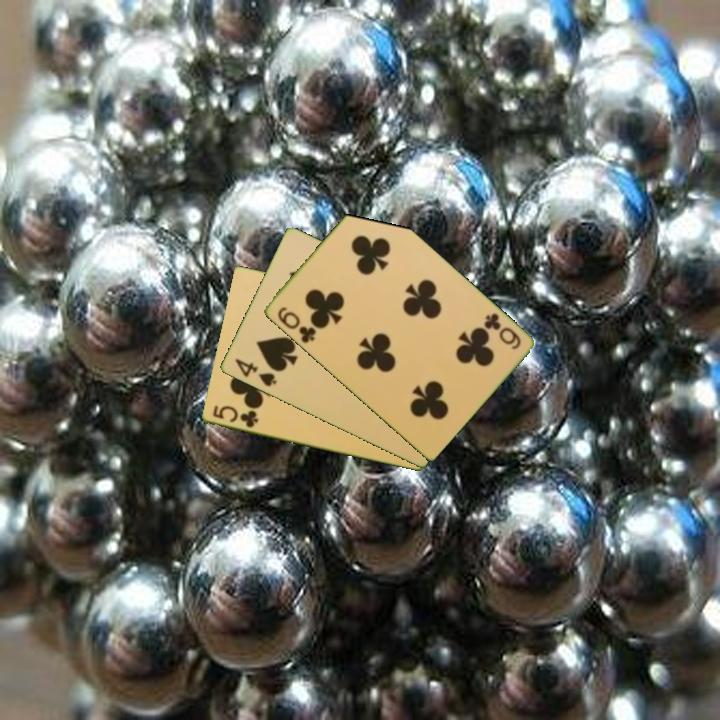4s: (231, 355, 279, 390)
5c: (209, 402, 261, 431)
6c: (273, 303, 319, 346), (480, 309, 524, 352)
